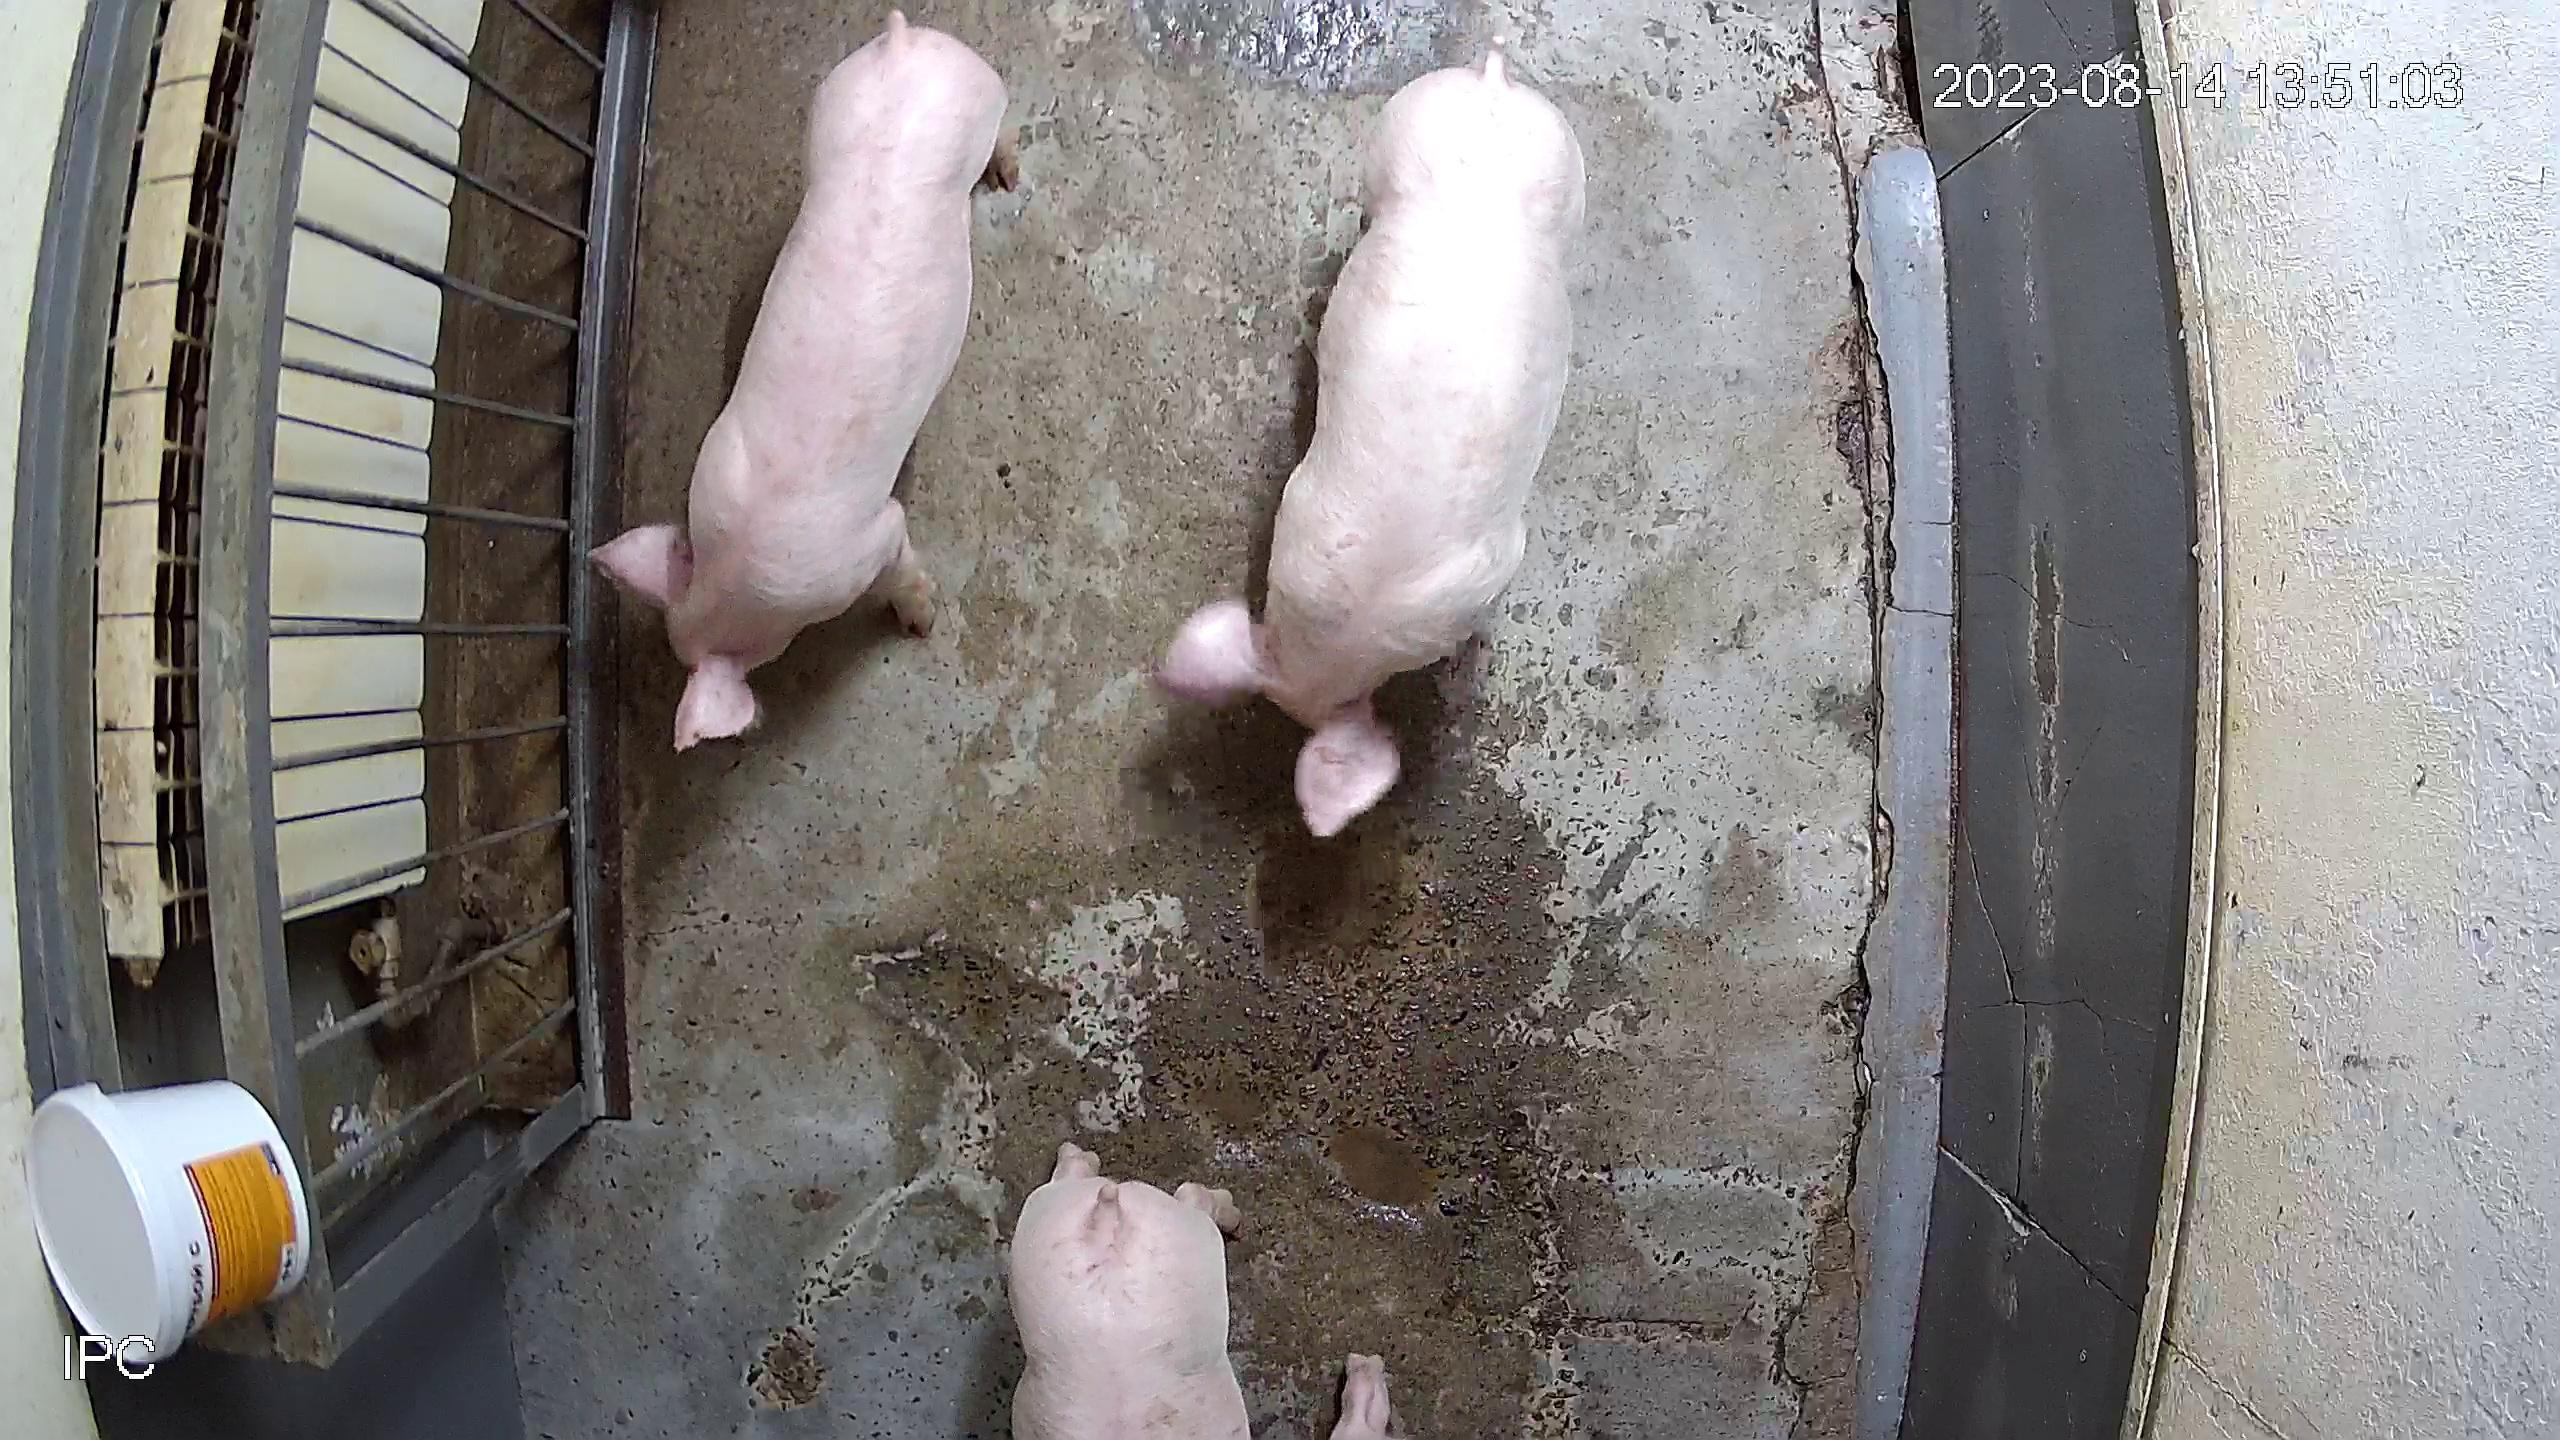Pig: (1159, 40, 1586, 835), (593, 7, 1006, 747), (1009, 1143, 1250, 1440), (1329, 1354, 1394, 1440)
